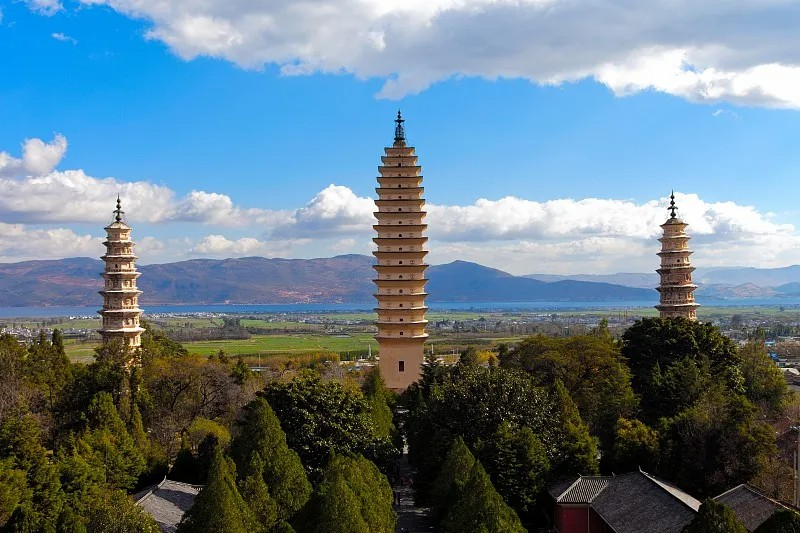ThreePagoda: (372, 108, 430, 389)
